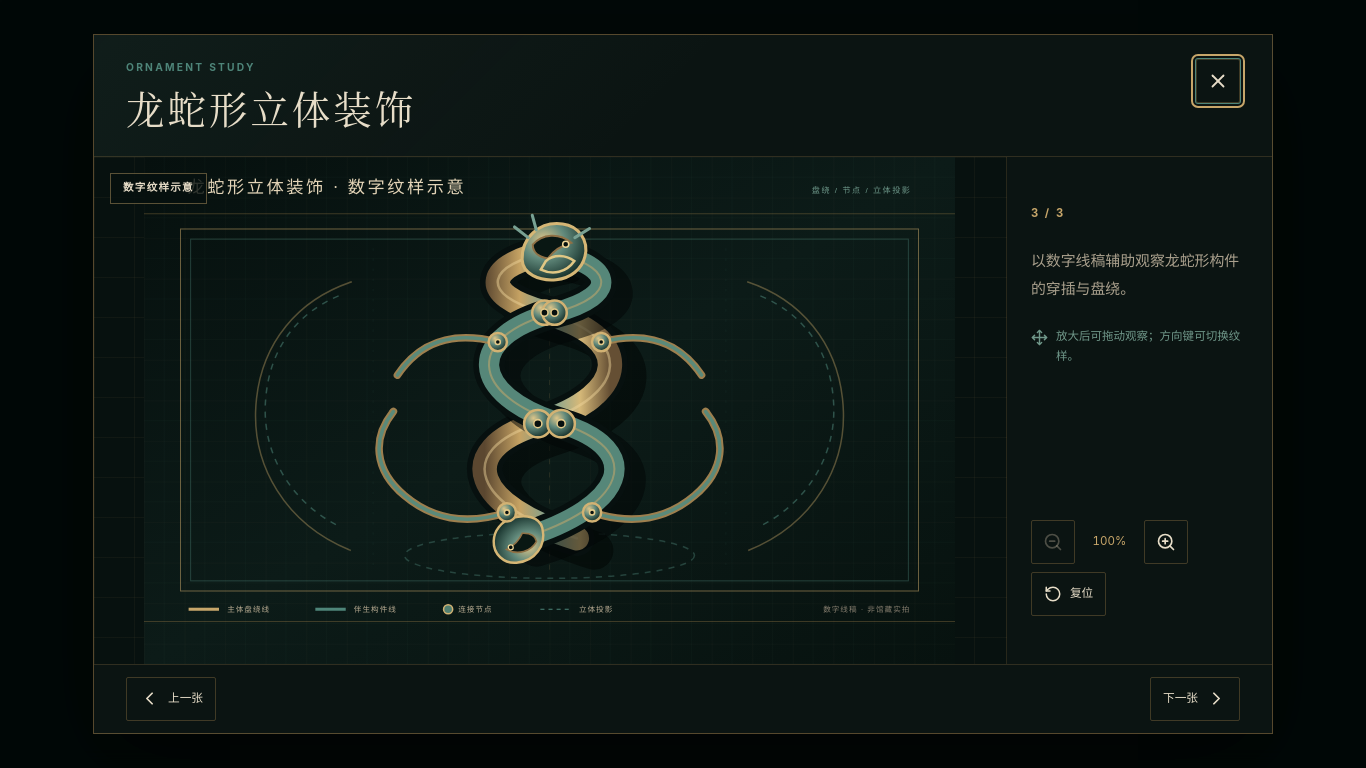
Test: OrnamentLightbox › wraps through items with the visible previous and next buttons
Step 1. Click the button "下一张" → x=1195, y=699, box [1150,677,1240,721]
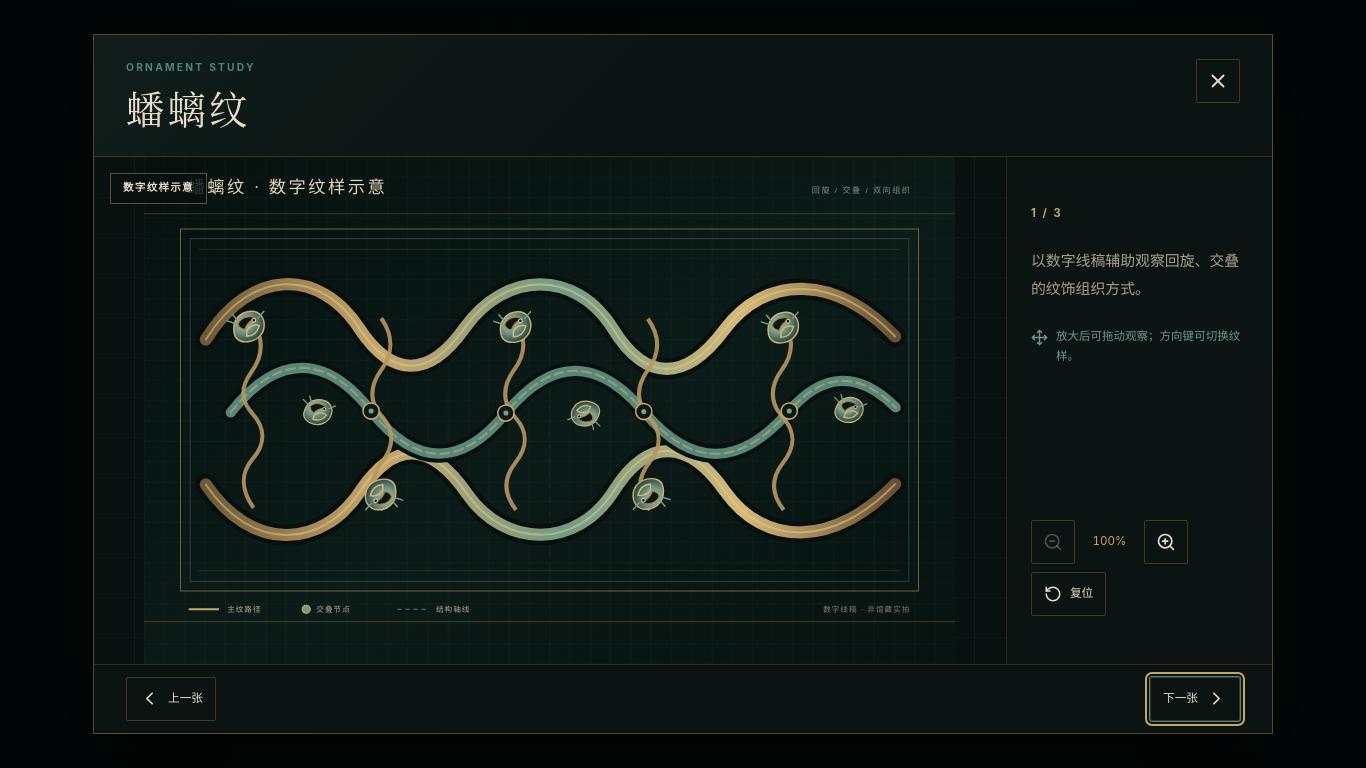
Expected: the dialog "蟠螭纹" is shown
Step 2. Click the button "上一张" → x=171, y=699, box [126,677,216,721]
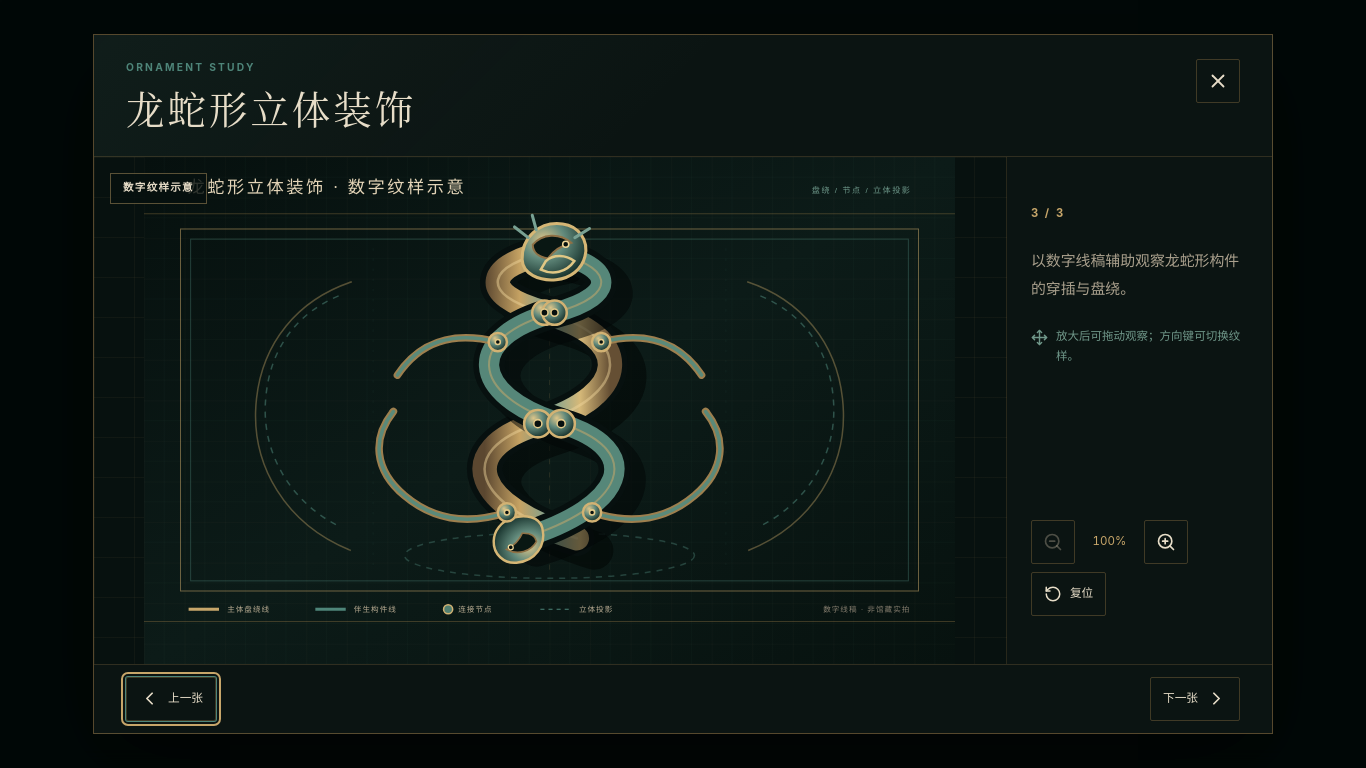
Expected: the dialog "龙蛇形立体装饰" is shown
